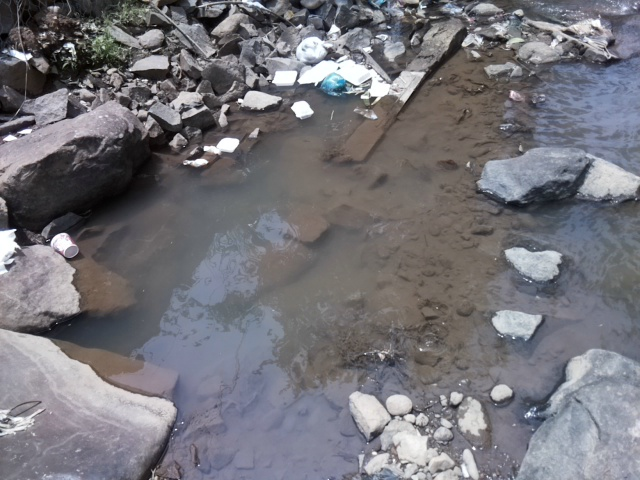Sampah_Plastik: (295, 37, 329, 62), (317, 74, 348, 96)
Sampah_Styrofoam: (336, 61, 375, 82), (211, 135, 242, 154), (271, 69, 298, 87), (290, 99, 314, 119)
